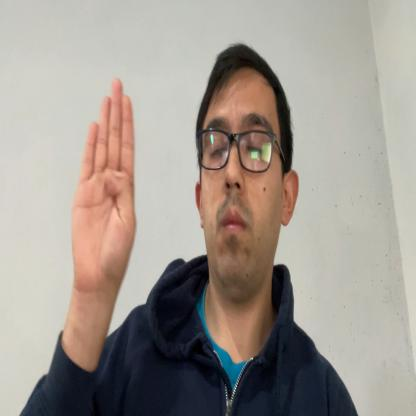B: (71, 74, 137, 289)
